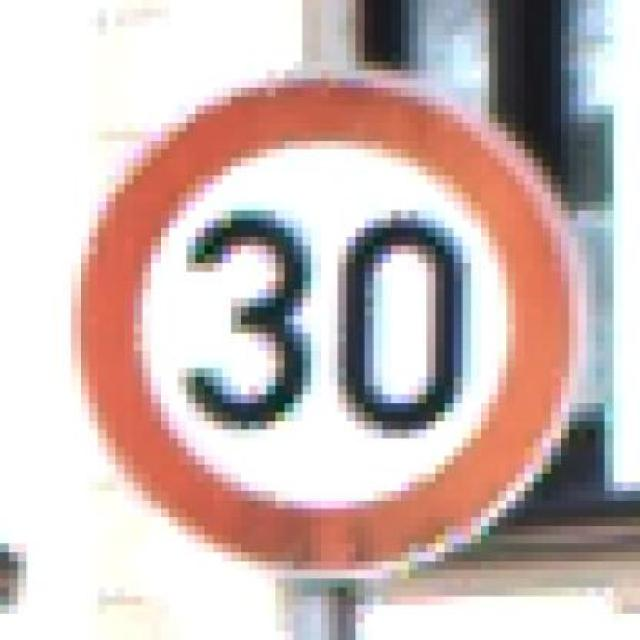Speed Limit 30 KMPh: (53, 43, 632, 614)
